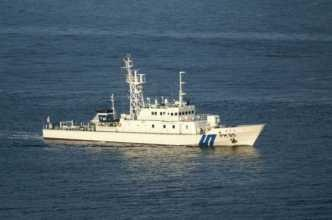warship: (40, 51, 275, 147)
